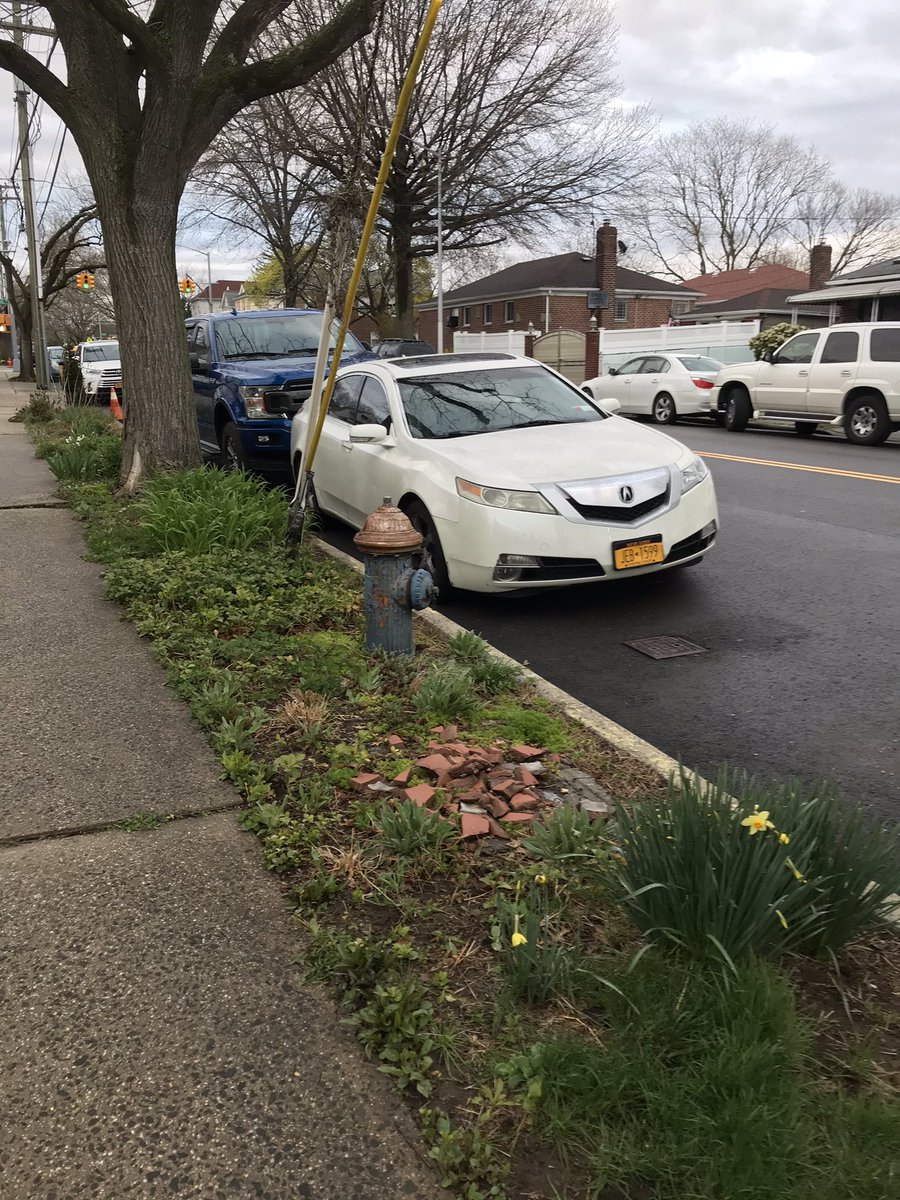building: (460, 247, 671, 357)
car: (273, 357, 714, 601), (195, 297, 379, 446), (708, 320, 899, 447), (586, 351, 747, 420)
sidewalk: (21, 444, 721, 1200)
sky: (582, 1, 900, 246)
tree: (42, 16, 399, 468), (255, 14, 599, 305), (634, 88, 882, 284)
